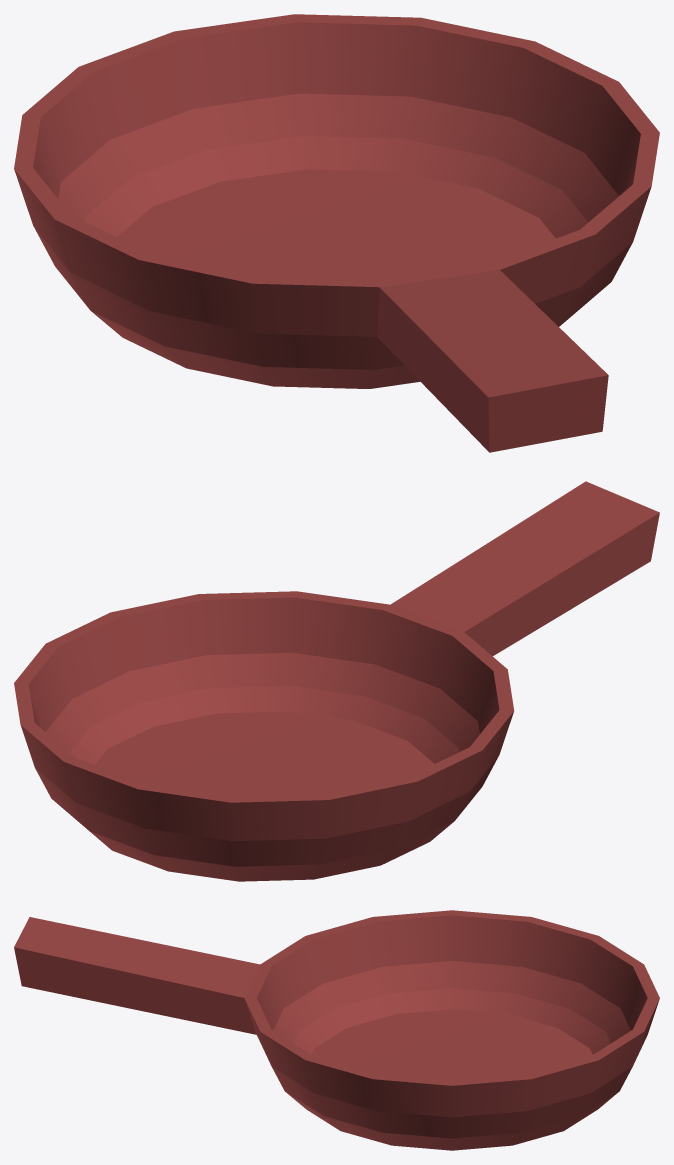
File: Pans.FBX
The picture shows the model from 3 angles, top to bottom: view 1: azimuth 30°, elevation 25°; view 2: azimuth 150°, elevation 25°; view 3: azimuth 270°, elevation 25°; orthographic projection. The views are drawn at different scales.
Parts seen in each view (by area): view 1: Line013; view 2: Line013; view 3: Line013.
Boxes of the visible parts, x1,y1,x2,y2 form: Line013: (14,14,659,452); Line013: (14,481,659,881); Line013: (14,910,659,1150).
Size of the model in its own units: 0.2513 by 0.0763 by 0.3907.
